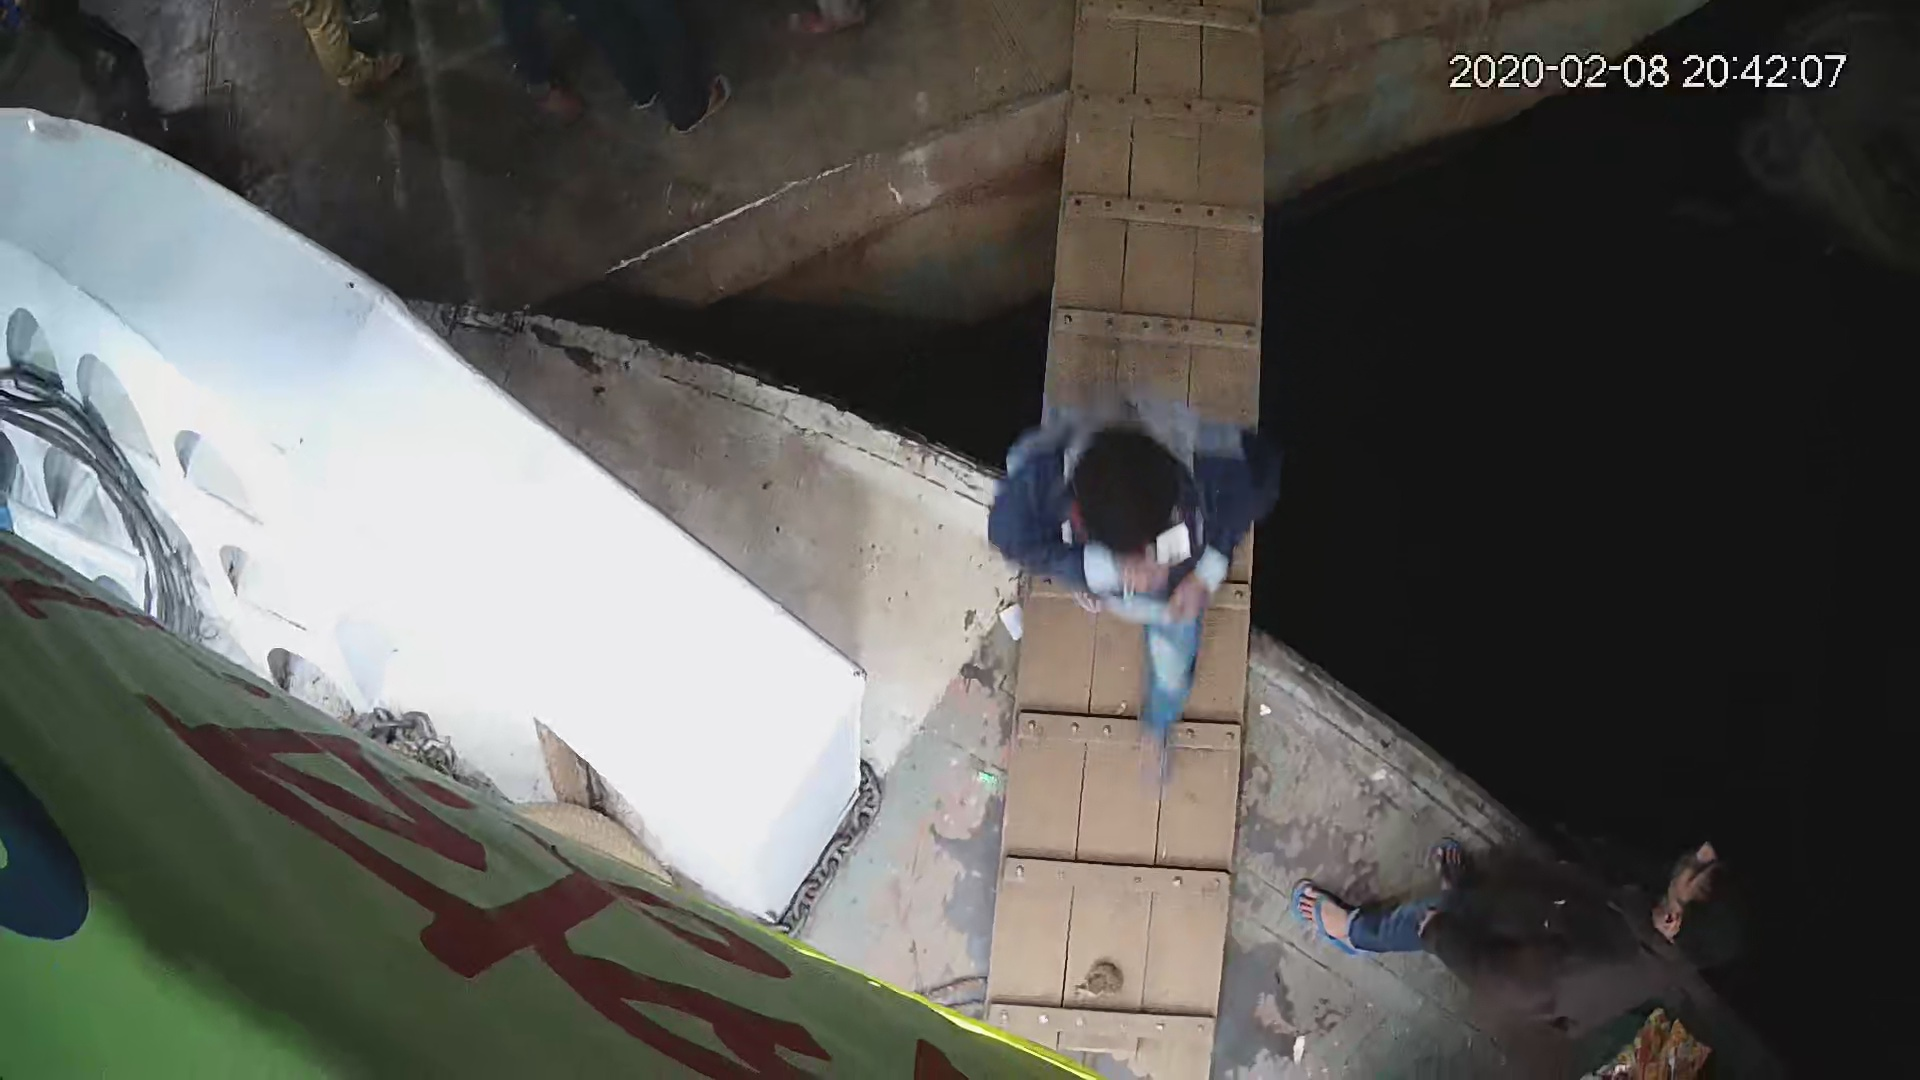person: (1285, 816, 1790, 1028), (986, 390, 1288, 740)
